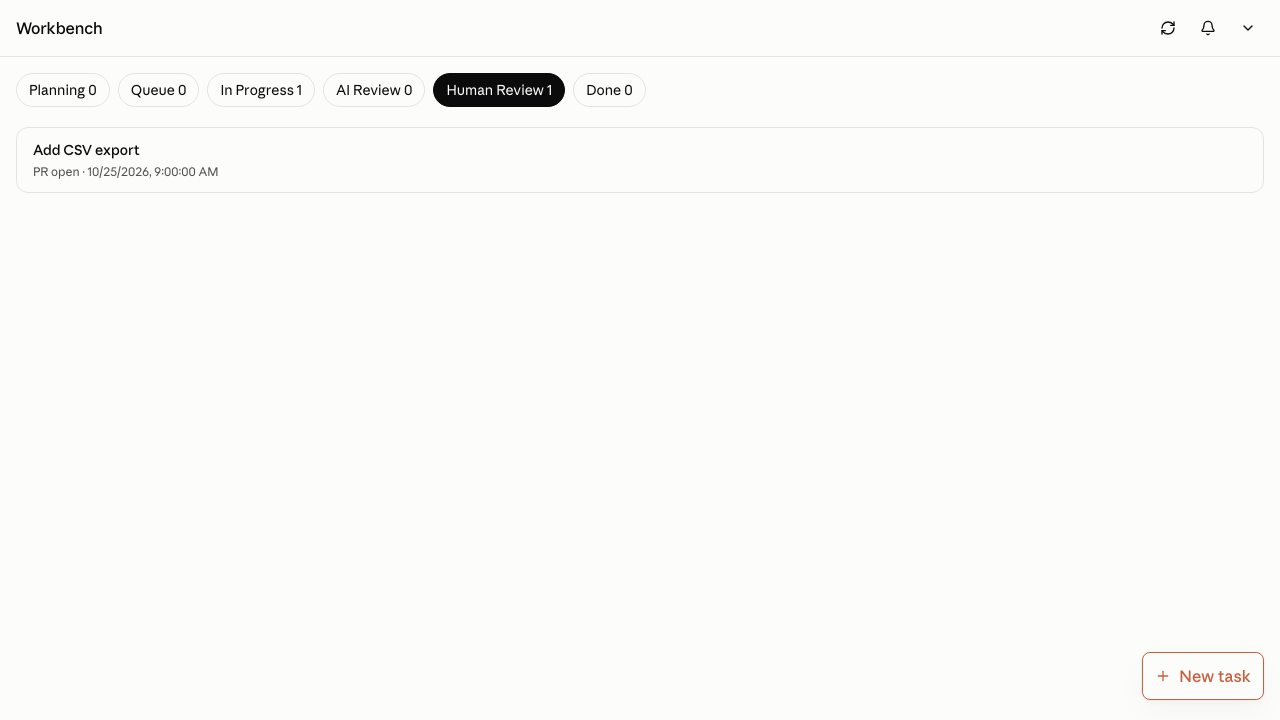
task screen › offers the merge again with the error after a background merge fails
The width and height of the screenshot is (1280, 720).
Click the text "Add CSV export": click(86, 150) x1=33 y1=141 x2=140 y2=159
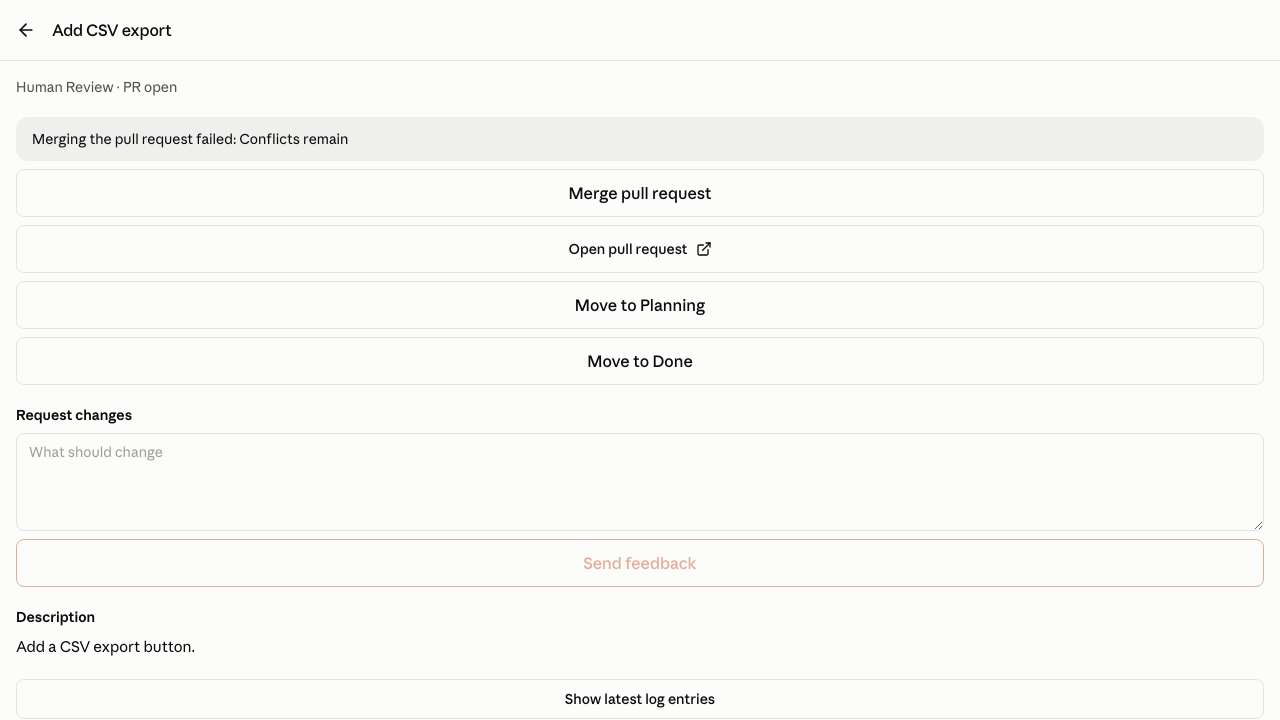
Result: the text "Merging the pull request failed: Conflicts remain" is shown at x1=16 y1=117 x2=1264 y2=161
Result: the button "Merge pull request" is enabled at x1=16 y1=169 x2=1264 y2=217
Result: the button "Move to Done" is enabled at x1=16 y1=337 x2=1264 y2=385
